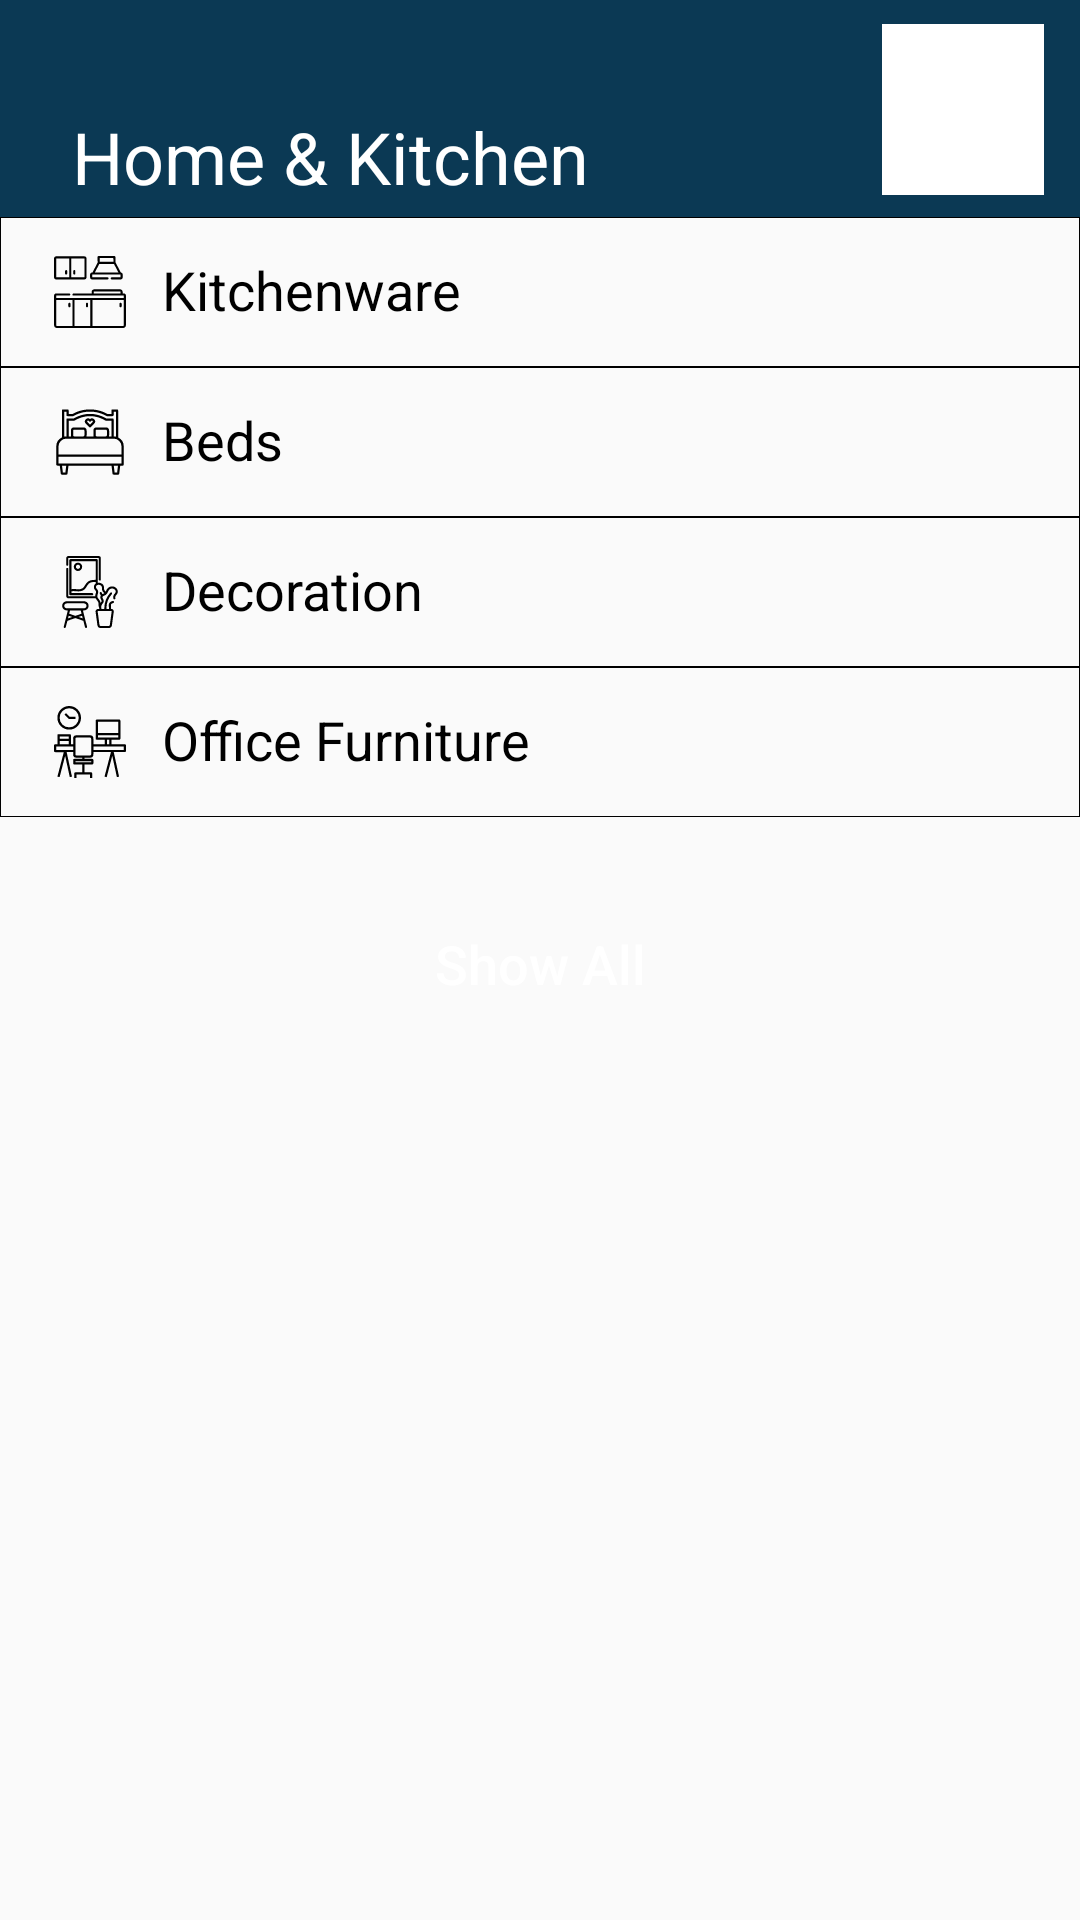

Where to tap for icons on this 1080x1920 app screen, as (x,y):
double bed: (90,442)
work station: (90,742)
